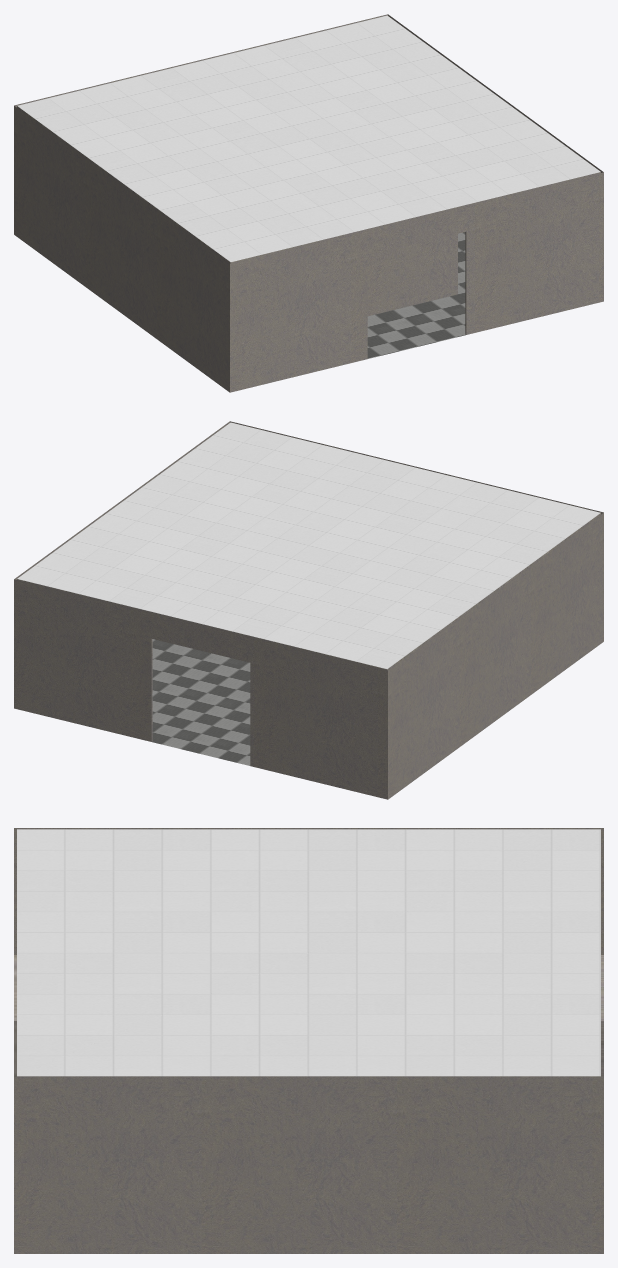
File: 2exit.glb
The picture shows the model from 3 angles, top to bottom: view 1: azimuth 30°, elevation 25°; view 2: azimuth 150°, elevation 25°; view 3: azimuth 270°, elevation 25°; orthographic projection. The views are drawn at different scales.
Visible parts, largest first — view 1: 2exit; view 2: 2exit; view 3: 2exit.
Boxes of the visible parts, bbox=[...] form: 2exit: bbox=[14, 14, 603, 392]; 2exit: bbox=[14, 421, 603, 799]; 2exit: bbox=[14, 828, 603, 1253].
Size of what is drawn, in the model's own units: 15.15 by 5 by 15.15.
3 materials, 3 textured.
